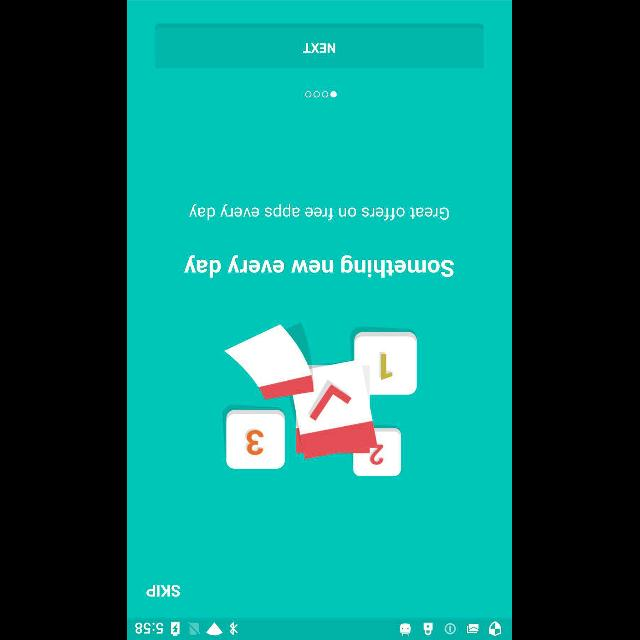image: (224, 324, 418, 476)
pageindicator: (306, 90, 338, 98)
text: (186, 256, 454, 278), (190, 203, 450, 221), (147, 585, 181, 597)
textbutton: (156, 23, 484, 68)
uppertaskbar: (128, 617, 512, 639)
